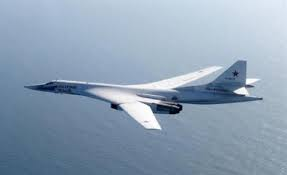maybay_dansu: (23, 63, 270, 126)
